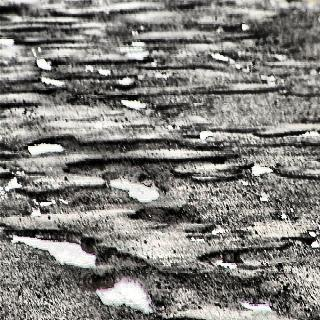pothole: (32, 130, 248, 208), (3, 229, 168, 315), (185, 231, 320, 277)
